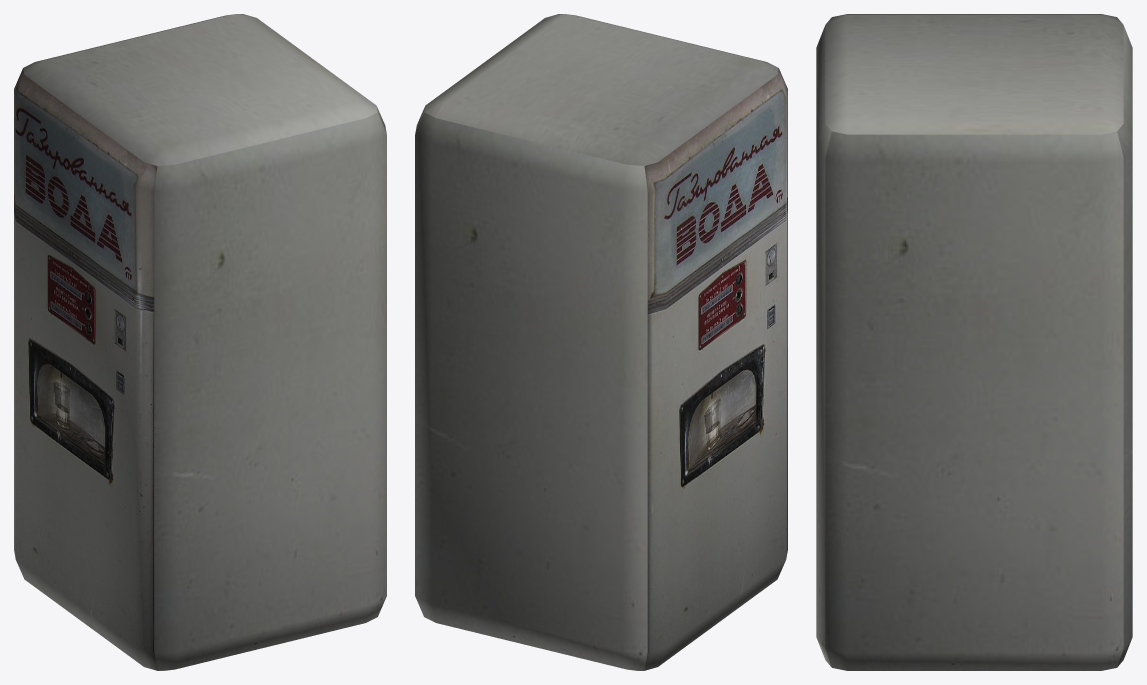
The model's file is d_gaz_avtomat.FBX.
3 renders of one model, left to right at view 1: azimuth 30°, elevation 25°; view 2: azimuth 150°, elevation 25°; view 3: azimuth 270°, elevation 25°, orthographic. The views are drawn at different scales.
Visible parts, largest first — view 1: d_gaz_avtomat; view 2: d_gaz_avtomat; view 3: d_gaz_avtomat.
Boxes of the visible parts, bbox=[...] form: d_gaz_avtomat: bbox=[14, 14, 386, 670]; d_gaz_avtomat: bbox=[415, 14, 787, 670]; d_gaz_avtomat: bbox=[816, 14, 1132, 670].
Size of the model in its own units: 0.9199 by 0.9497 by 1.84.
